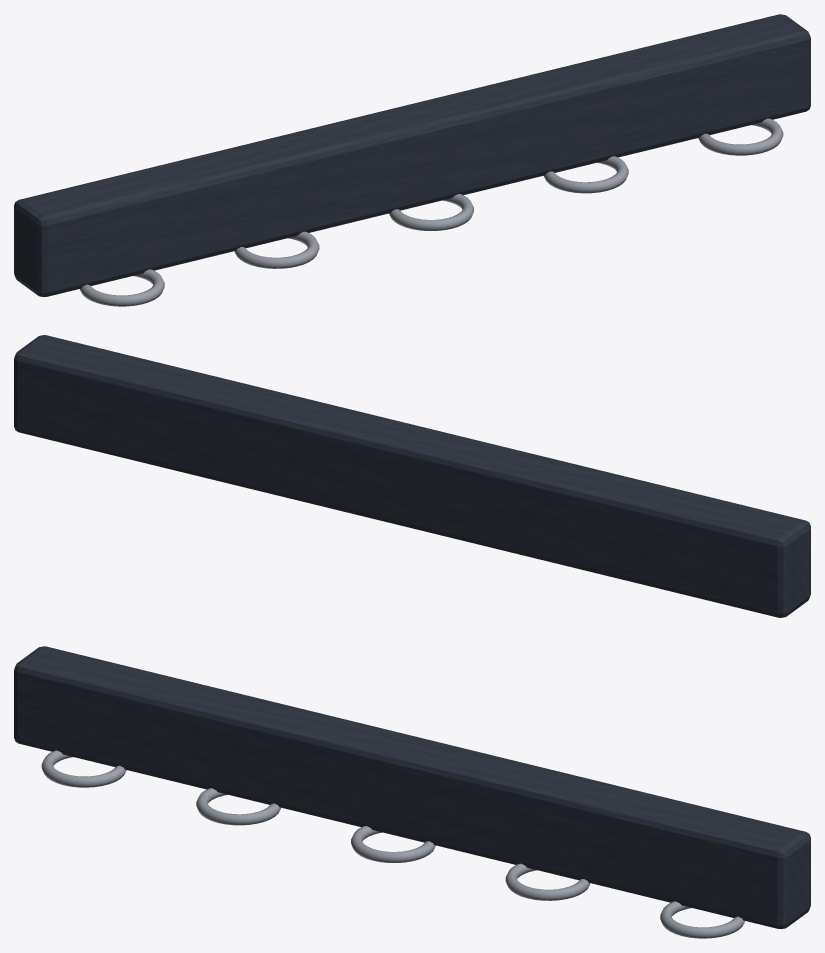
Rendered from ToolRail.obj.
3 views of the same model, one above another, from view 1: azimuth 30°, elevation 25°; view 2: azimuth 150°, elevation 25°; view 3: azimuth 330°, elevation 25° (orthographic).
Visible parts, largest first — view 1: Rail, Hook, Hook.004, Hook.001, Hook.003, Hook.002; view 2: Rail; view 3: Rail, Hook.004, Hook, Hook.003, Hook.001, Hook.002.
Boxes of the visible parts, <box> form: Rail: <box>14,14,810,296</box>; Hook: <box>80,269,164,306</box>; Hook.004: <box>698,118,783,155</box>; Hook.001: <box>234,231,319,268</box>; Hook.003: <box>544,156,628,193</box>; Hook.002: <box>389,194,473,230</box>; Rail: <box>14,335,810,617</box>; Rail: <box>14,646,810,928</box>; Hook.004: <box>660,901,744,938</box>; Hook: <box>41,750,126,787</box>; Hook.003: <box>505,863,590,900</box>; Hook.001: <box>196,788,280,825</box>; Hook.002: <box>351,826,435,862</box>.
Bounding box in the file's own units: 0.6 × 0.064 × 0.074.
